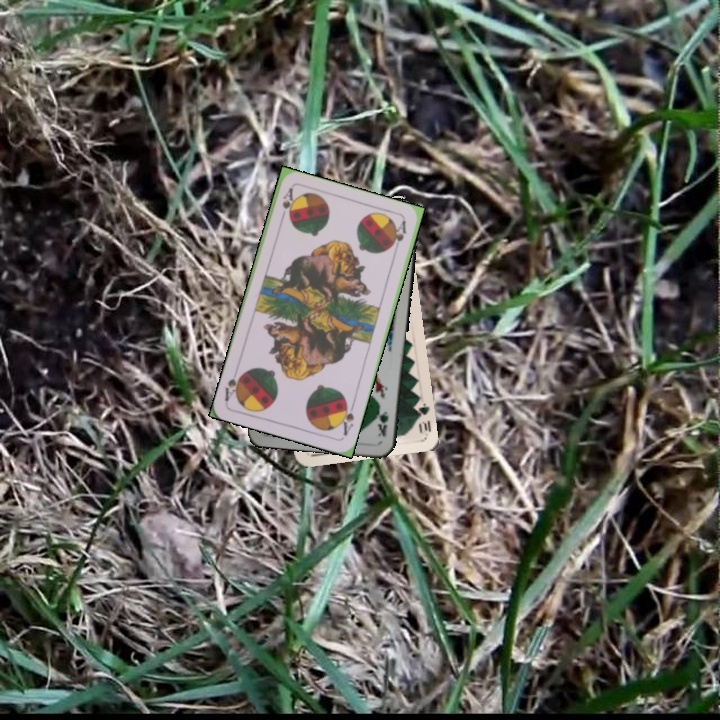G10: (411, 396, 434, 436)
GK: (373, 401, 391, 439)
SA: (335, 397, 357, 438), (276, 184, 296, 224)
